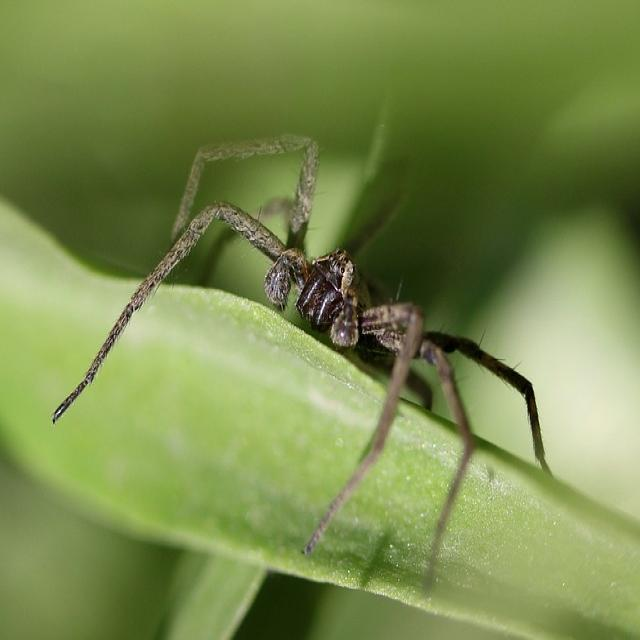spyder: (52, 135, 548, 578)
